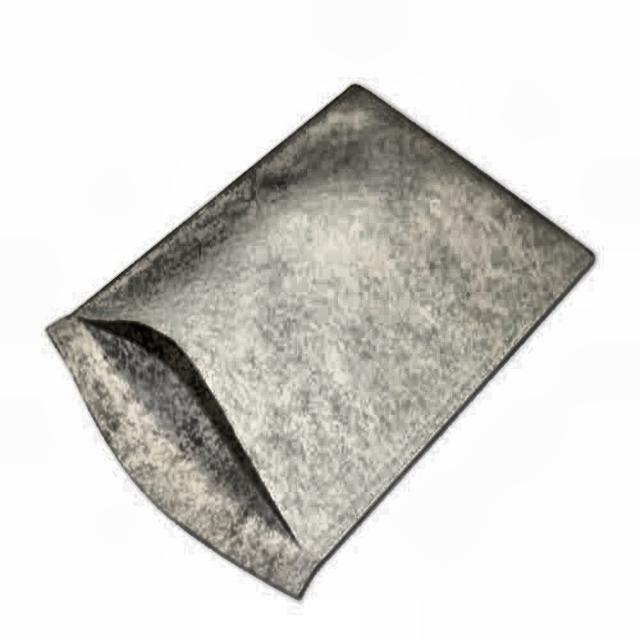Paper: (29, 65, 598, 603)
